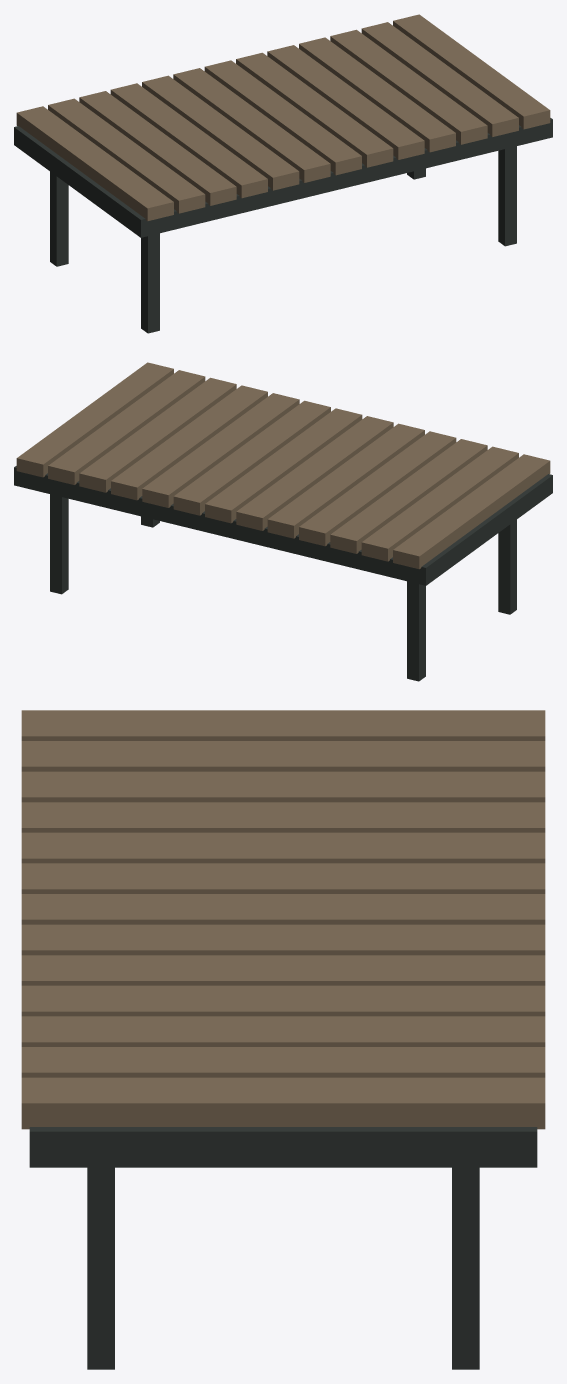
File: outdoor-coffee-table-lod0.glb
3 views of the same model, one above another, from view 1: azimuth 30°, elevation 25°; view 2: azimuth 150°, elevation 25°; view 3: azimuth 270°, elevation 25° (orthographic). The views are drawn at different scales.
Parts seen in each view (by area): view 1: Warm teak slats, Powder-coated charcoal frame; view 2: Warm teak slats, Powder-coated charcoal frame; view 3: Warm teak slats, Powder-coated charcoal frame.
Part boxes in pixels (x1,y1,x2,y2): Warm teak slats: (16, 14, 550, 221); Powder-coated charcoal frame: (14, 118, 552, 333); Warm teak slats: (16, 362, 550, 569); Powder-coated charcoal frame: (14, 466, 552, 681); Warm teak slats: (21, 710, 545, 1129); Powder-coated charcoal frame: (29, 1127, 537, 1369).
Bounding box in the file's own units: 1.2 × 0.393 × 0.66.
